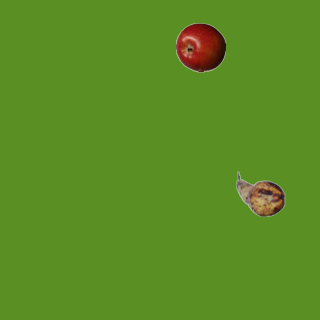Apple Braeburn: (175, 22, 225, 72)
Pear Abate: (235, 169, 285, 219)
